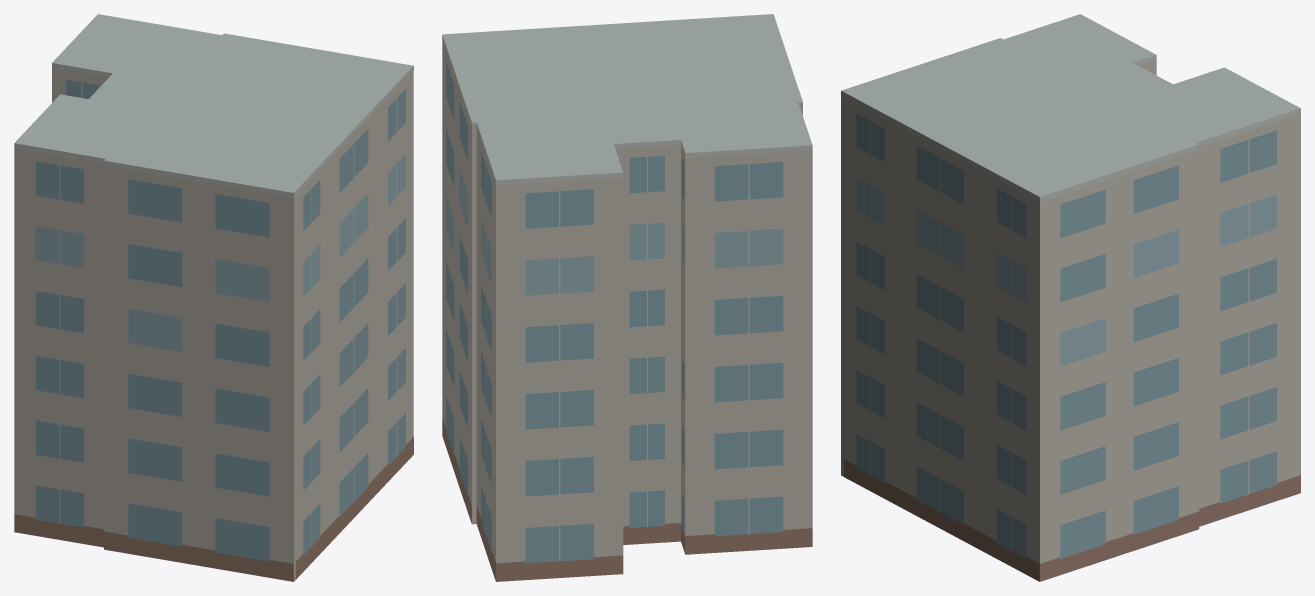
Rendered from survey-upis-32915924.glb.
3 renders of one model, left to right at view 1: azimuth 30°, elevation 25°; view 2: azimuth 150°, elevation 25°; view 3: azimuth 270°, elevation 25°, orthographic. The views are drawn at different scales.
Parts seen in each view (by area): view 1: survey-upis-32915924.tmp; view 2: survey-upis-32915924.tmp; view 3: survey-upis-32915924.tmp.
Part boxes in pixels (bbox=[...]): survey-upis-32915924.tmp: bbox=[14, 14, 413, 581]; survey-upis-32915924.tmp: bbox=[442, 14, 812, 581]; survey-upis-32915924.tmp: bbox=[841, 14, 1300, 581].
Size of the model in its own units: 18.67 by 18.3 by 19.82.
